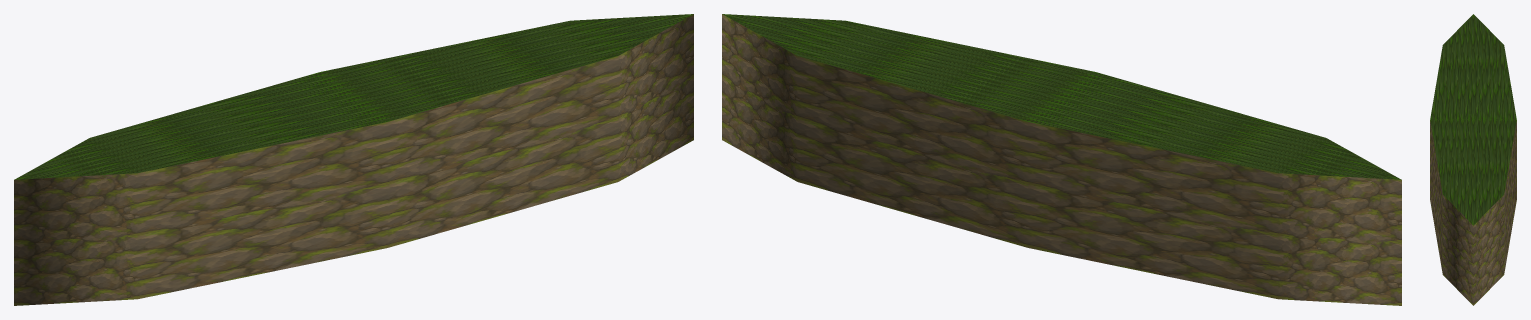
Rendered from wall.glb.
3 renders of one model, left to right at view 1: azimuth 30°, elevation 25°; view 2: azimuth 150°, elevation 25°; view 3: azimuth 270°, elevation 25°, orthographic. The views are drawn at different scales.
Visible parts, largest first — view 1: cylinder; view 2: cylinder; view 3: cylinder.
Boxes of the visible parts, bbox=[...] form: cylinder: bbox=[14, 14, 693, 305]; cylinder: bbox=[722, 14, 1401, 305]; cylinder: bbox=[1430, 14, 1516, 305].
Bounding box in the file's own units: 36.93 × 6.54 × 6.4.
Materials: 1 (1 with a texture image).
